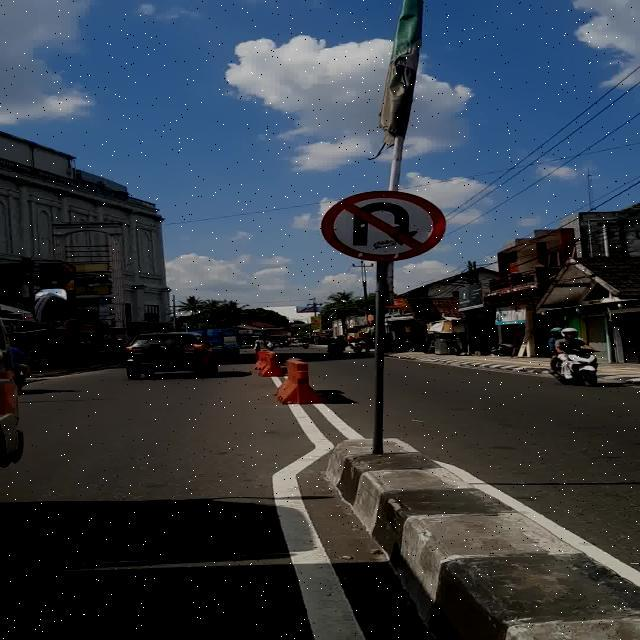Dilarang Putar Balik: (320, 191, 447, 262)
